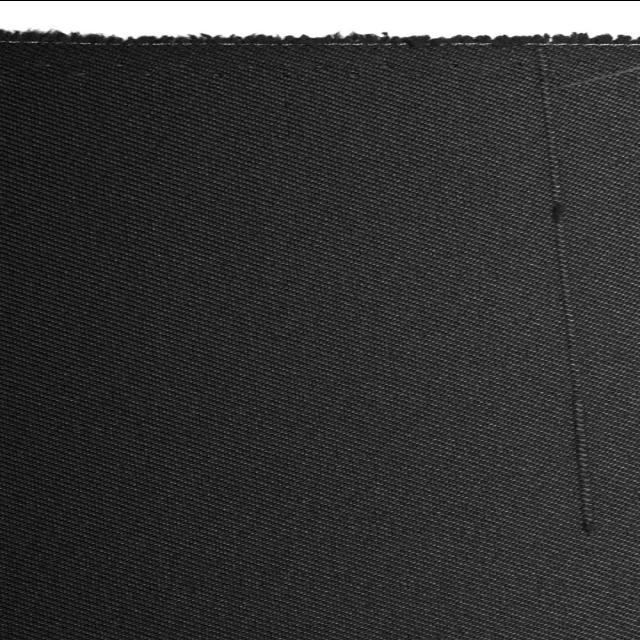stains: (498, 46, 616, 547)
